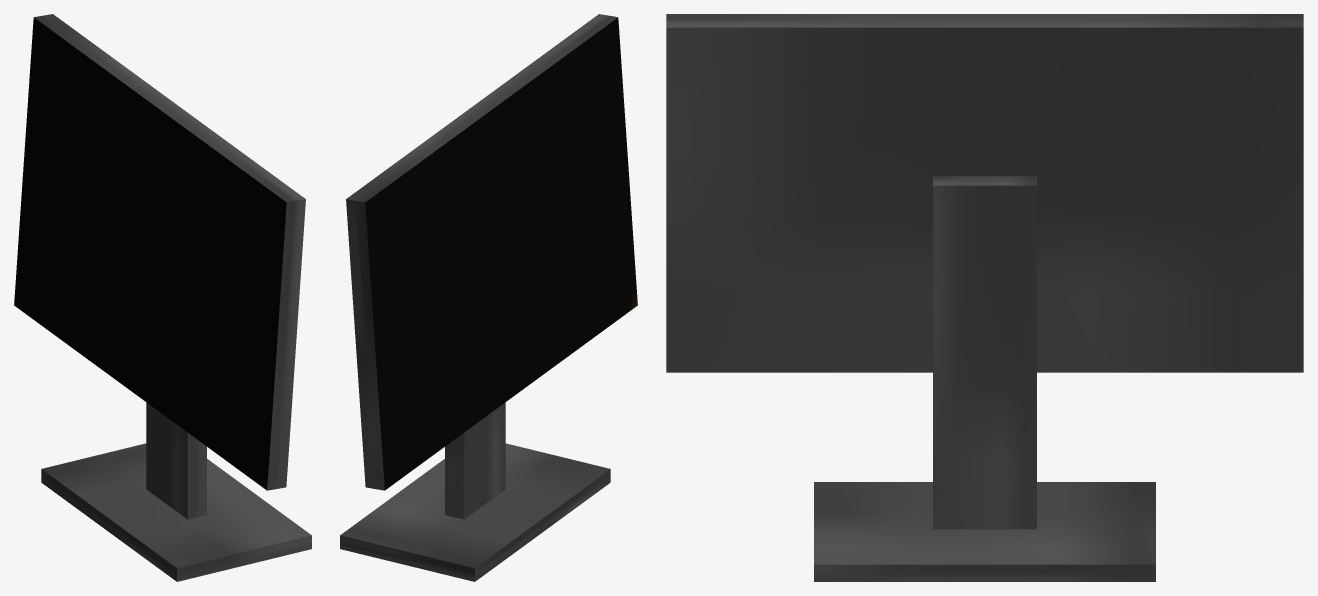
The model's file is Computer_Monitor.fbx.
3 views of the same model, side by side, from view 1: azimuth 30°, elevation 25°; view 2: azimuth 150°, elevation 25°; view 3: azimuth 270°, elevation 25° (orthographic). The views are drawn at different scales.
Visible parts, largest first — view 1: pCube17; view 2: pCube17; view 3: pCube17.
Boxes of the visible parts, x1=… form: pCube17: x1=14, y1=14, x2=311, y2=581; pCube17: x1=340, y1=14, x2=637, y2=581; pCube17: x1=666, y1=14, x2=1303, y2=581.
Bounding box in the file's own units: 1.73 × 5.03 × 5.63.
